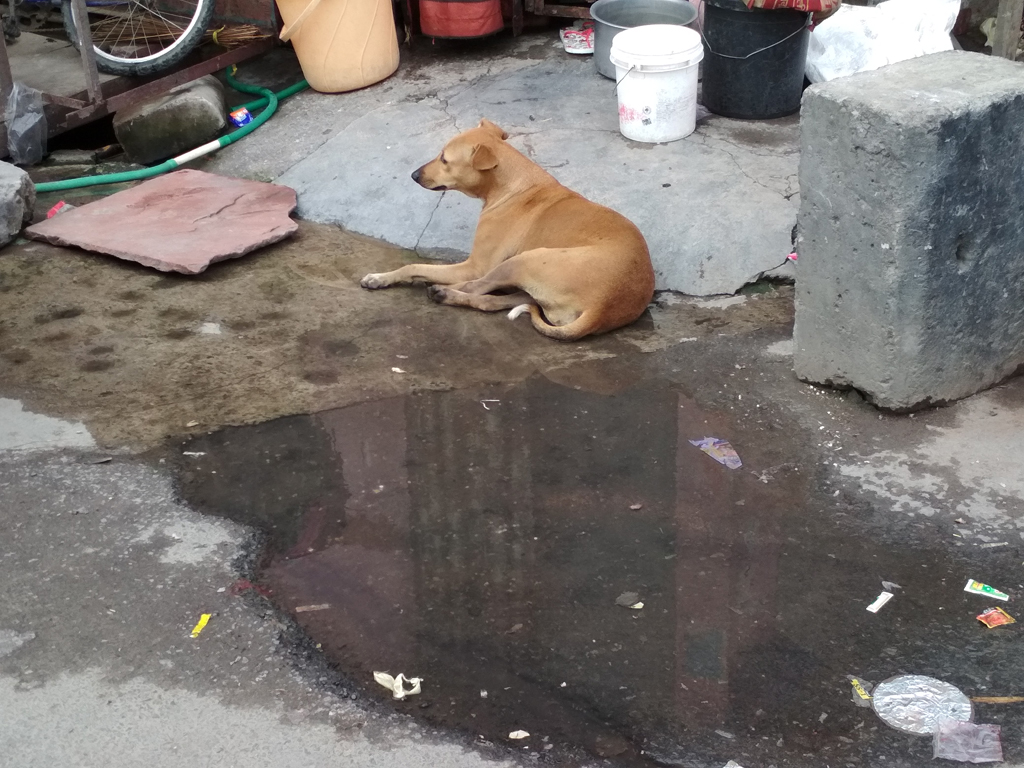dog: (361, 116, 653, 339)
